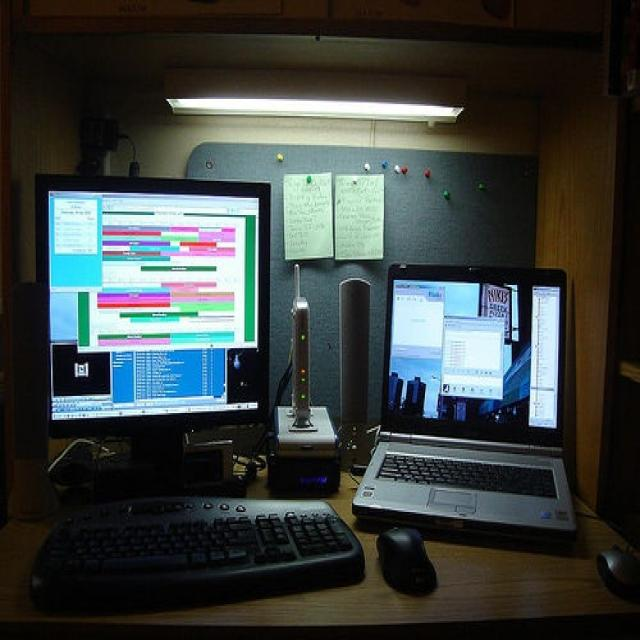tvmonitor: (34, 171, 272, 504)
